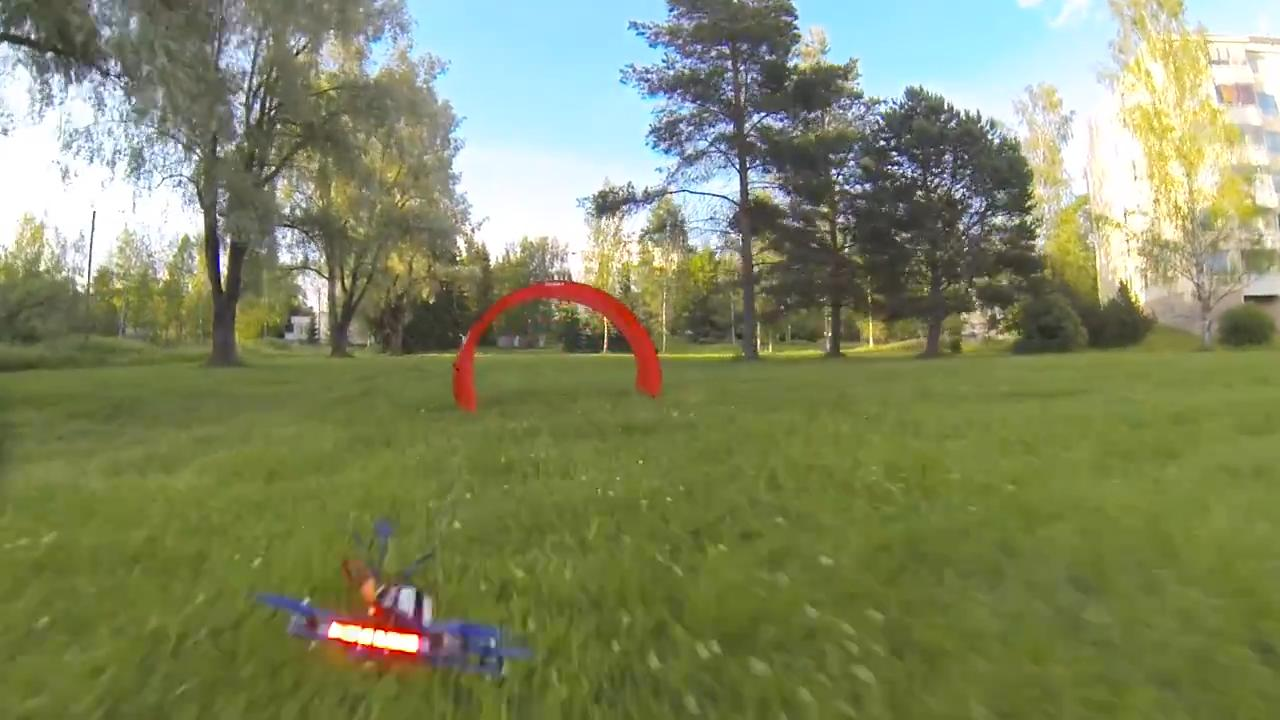gate: (451, 278, 666, 412)
